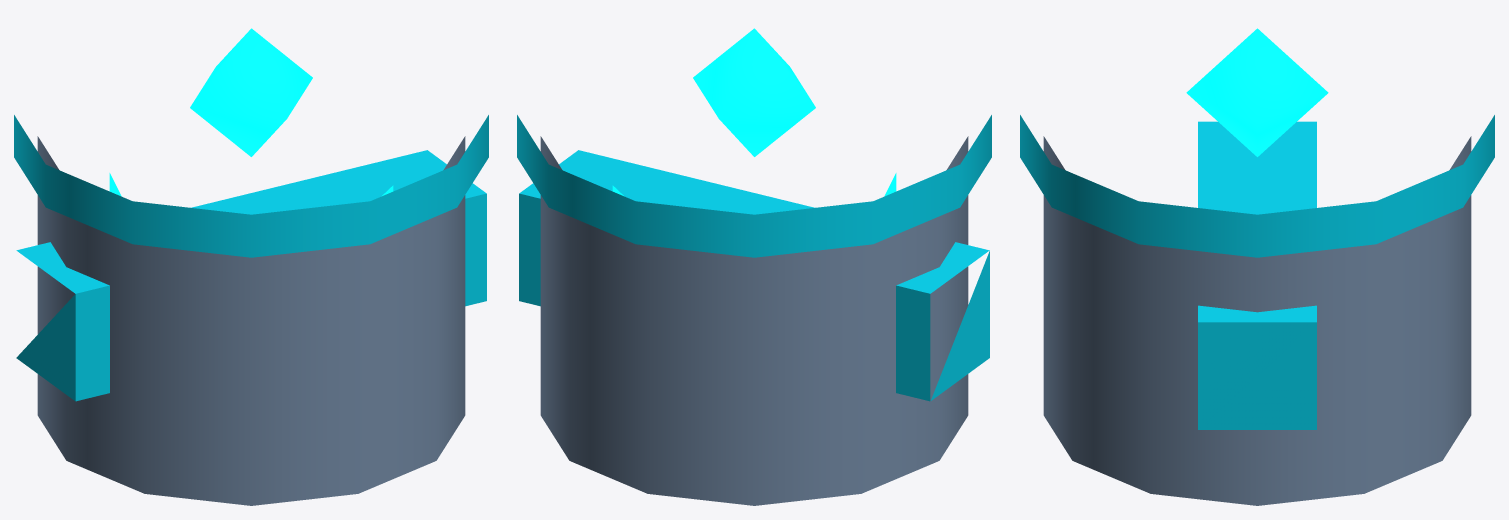
File: dinamo_galvanica.glb
The picture shows the model from 3 angles, left to right: view 1: azimuth 30°, elevation 25°; view 2: azimuth 150°, elevation 25°; view 3: azimuth 270°, elevation 25°; orthographic projection.
Parts seen in each view (by area): view 1: Base, Accent, Glow; view 2: Base, Accent, Glow; view 3: Base, Accent, Glow.
Part boxes in pixels (<box>): Base: <box>37,136,465,505</box>; Accent: <box>14,115,488,401</box>; Glow: <box>109,28,393,196</box>; Base: <box>540,136,968,505</box>; Accent: <box>517,115,991,401</box>; Glow: <box>612,28,896,196</box>; Base: <box>1043,136,1471,505</box>; Accent: <box>1020,115,1494,429</box>; Glow: <box>1186,28,1328,156</box>.
Size of the model in its own units: 0.4 by 0.36 by 0.4.
